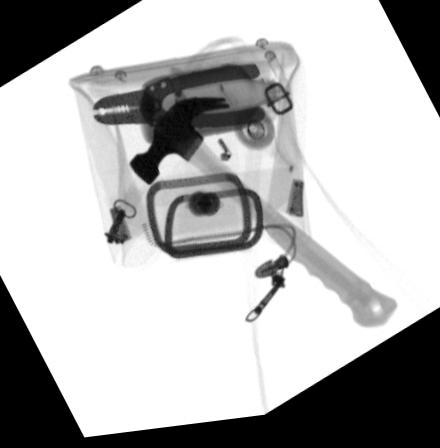Hammer: (126, 101, 397, 339)
Pliers: (90, 70, 266, 145)
